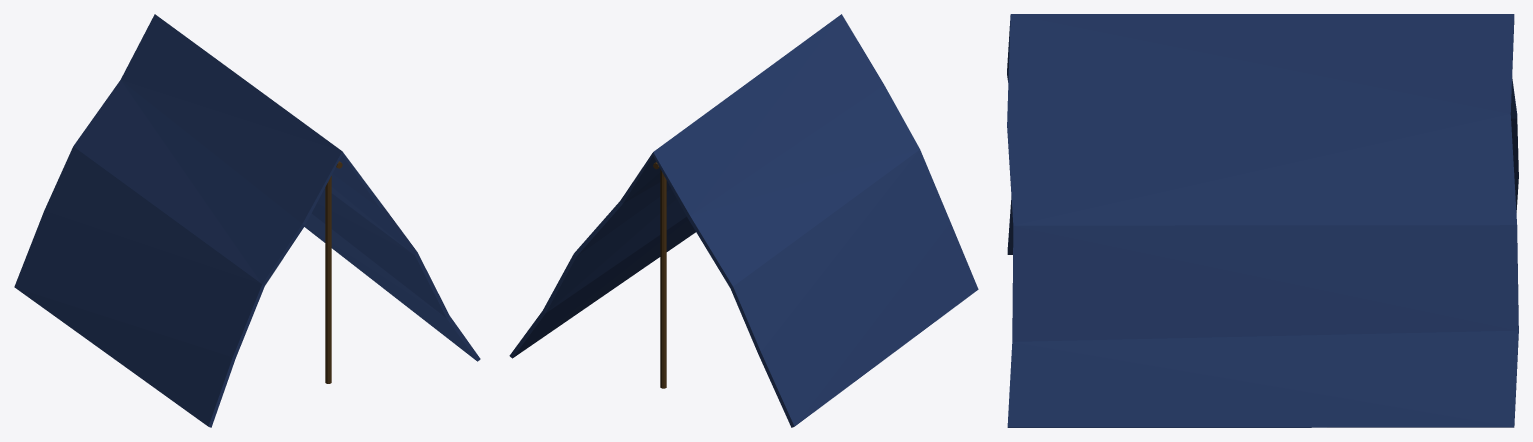
File: Tent.dae
The picture shows the model from 3 angles, left to right: view 1: azimuth 30°, elevation 25°; view 2: azimuth 150°, elevation 25°; view 3: azimuth 270°, elevation 25°; orthographic projection. The views are drawn at different scales.
Parts seen in each view (by area): view 1: Vert.001, Cylinder; view 2: Vert.001, Cylinder.001; view 3: Vert.001.
Part boxes in pixels (bbox=[...]): Vert.001: bbox=[14, 14, 480, 427]; Cylinder: bbox=[325, 176, 331, 383]; Vert.001: bbox=[509, 14, 978, 427]; Cylinder.001: bbox=[660, 169, 666, 388]; Vert.001: bbox=[1007, 14, 1518, 427].
Size of the model in its own units: 1.59 by 1.85 by 1.31.
